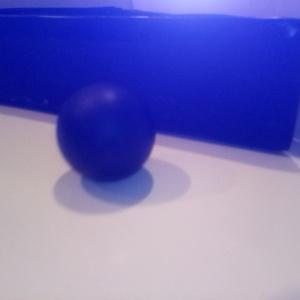dead_ball: (56, 81, 156, 181)
